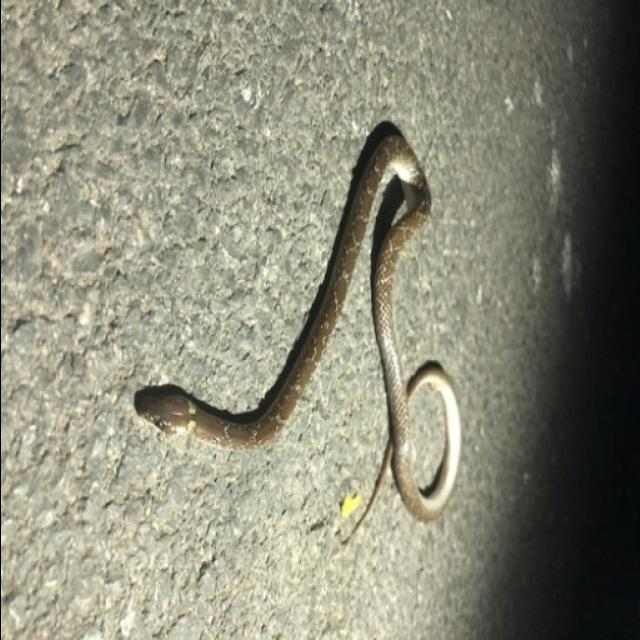snake: (127, 91, 504, 574)
